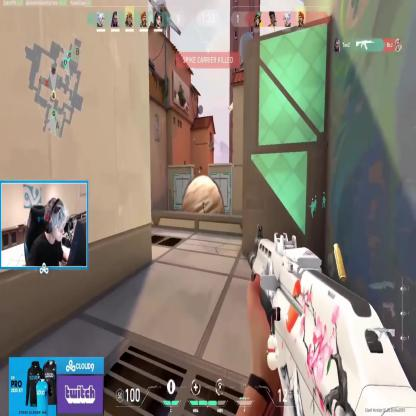enemy: (200, 200, 206, 216)
enemy_head: (202, 200, 204, 204)
